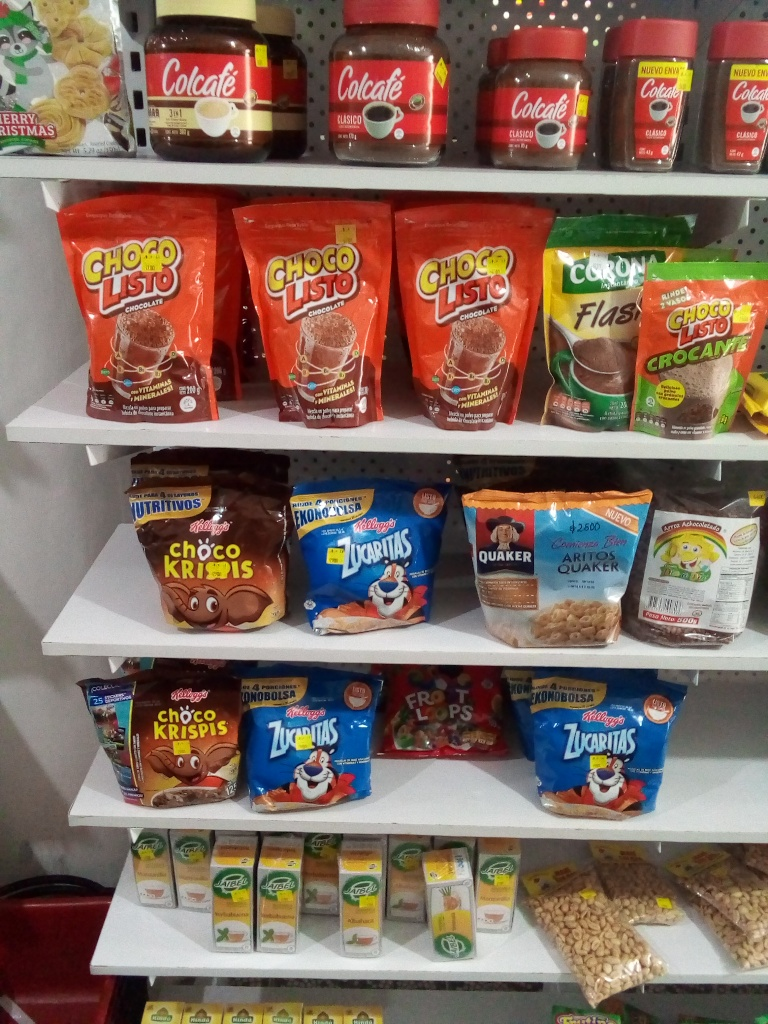COL0170102DYP10000: (628, 249, 767, 436)
COL0170103DYP20000: (49, 187, 224, 429)
